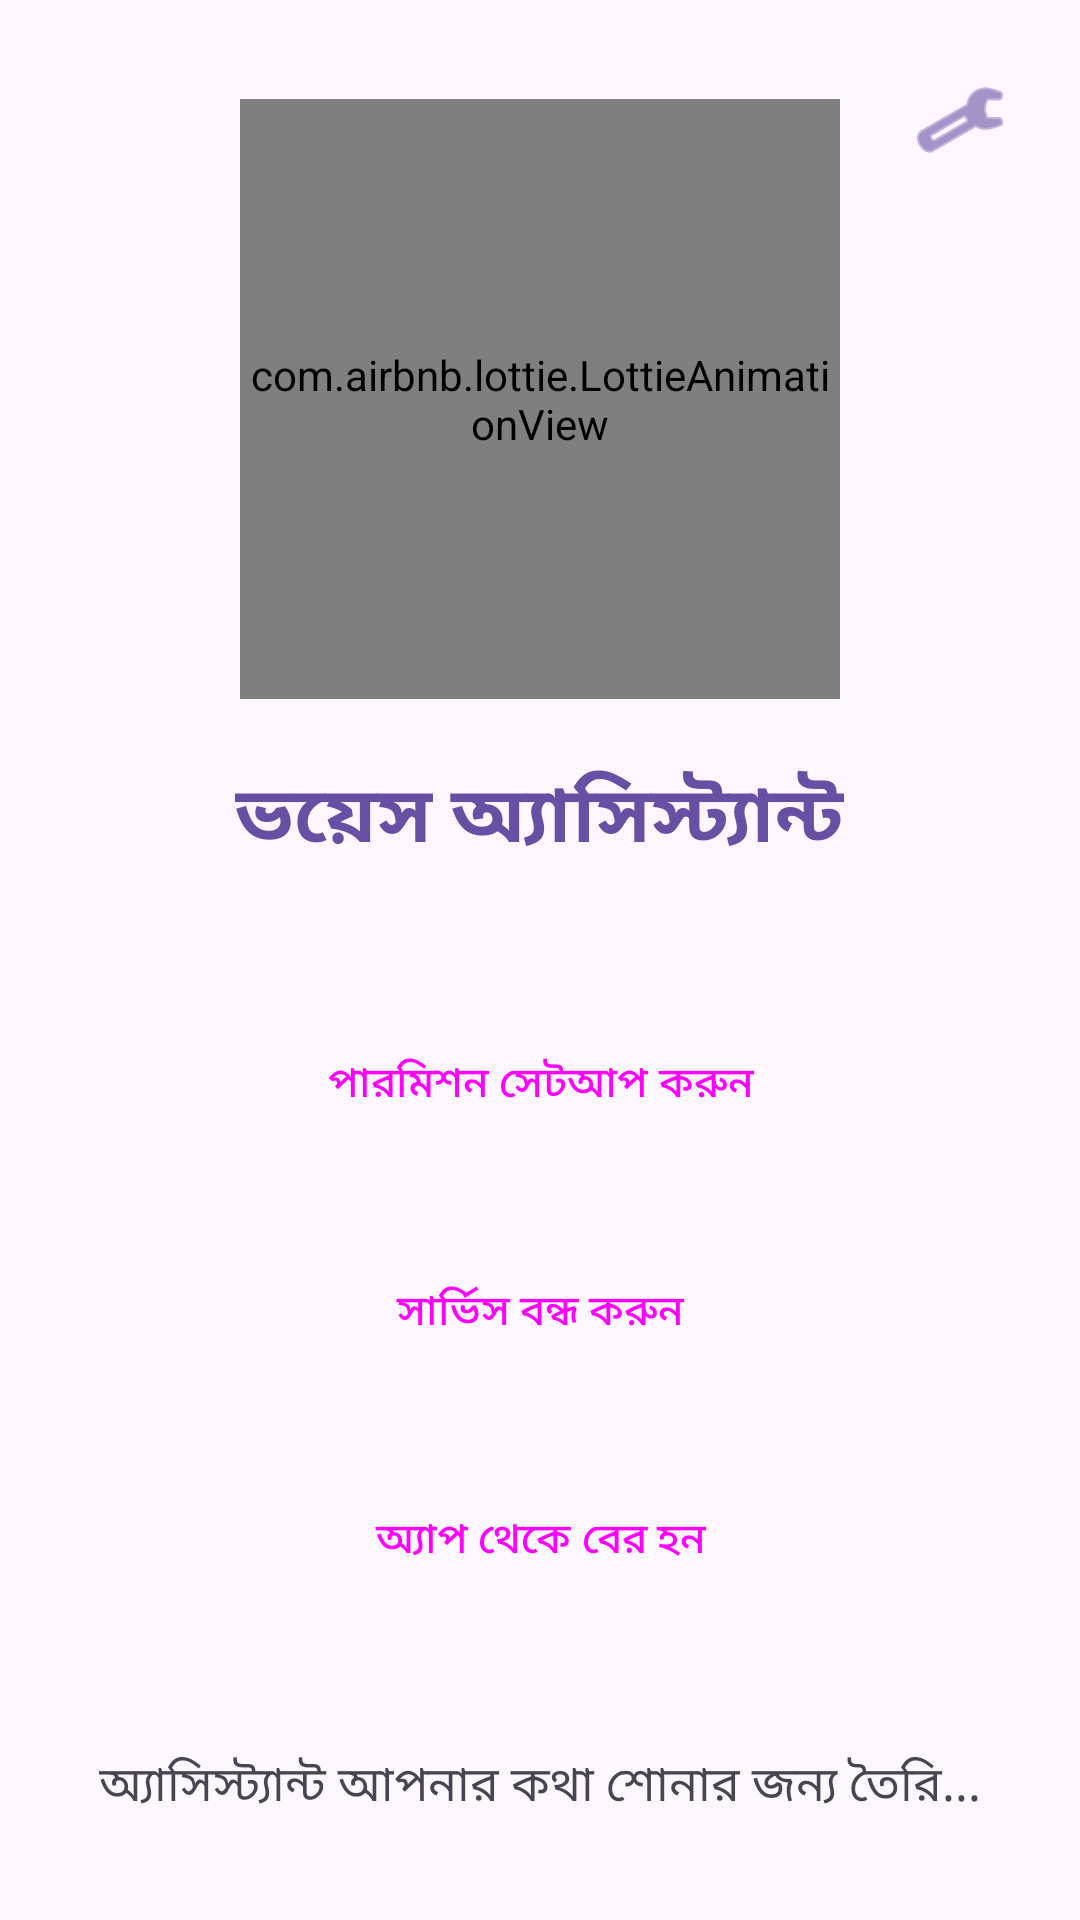

Named icons in this screenshot (1080 × 1920) and their centers, (x=x, y=y):
manage: (x=960, y=120)
